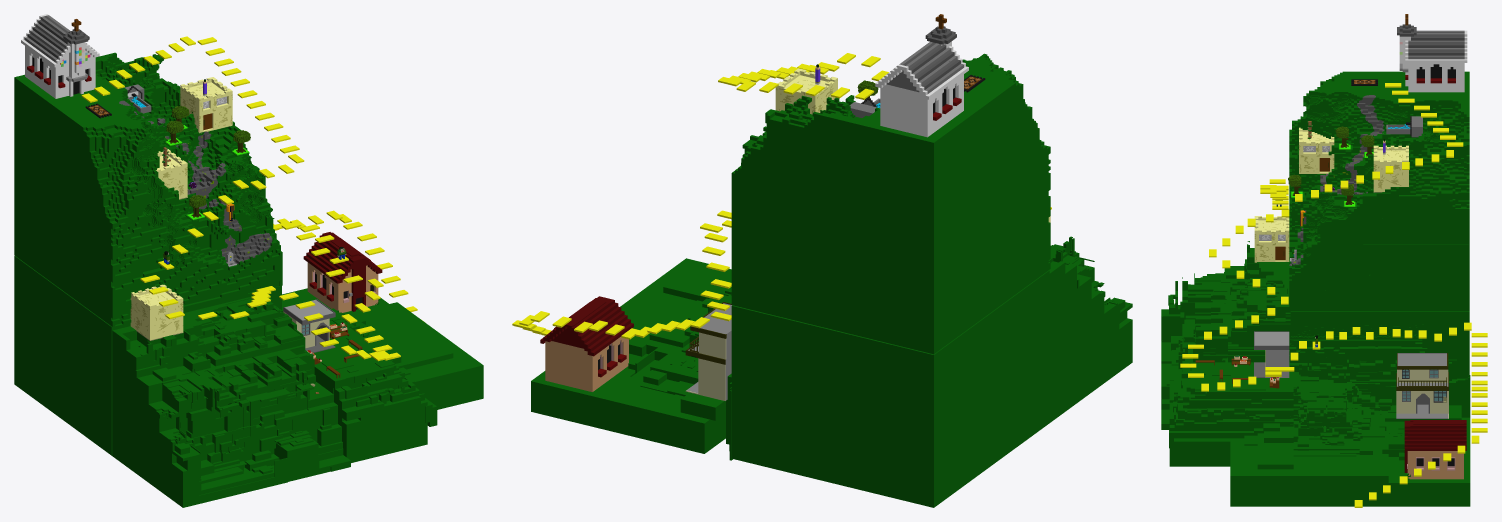
Rendered from grup4.fbx.
3 views of the same model, side by side, from view 1: azimuth 30°, elevation 25°; view 2: azimuth 150°, elevation 25°; view 3: azimuth 270°, elevation 25° (orthographic). The views are drawn at different scales.
Parts seen in each view (by area): view 1: Untitled.031, Untitled.003, Untitled.017, zemin, Untitled.022, okul, Untitled.020, ev 3, Untitled.034, Untitled.018, Untitled.030; view 2: Untitled.031, zemin, Untitled.020, Untitled.003, Untitled.022, okul, Untitled.019, Untitled.017, Untitled.034; view 3: Untitled.031, Untitled.020, Untitled.017, Untitled.003, zemin, Untitled.022, Untitled.019, okul, ev 3, Untitled.030, Untitled.034, Untitled.018 (+1 smaller).
Part boxes in pixels (x1,y1,x2,y2): Untitled.031: [14, 52, 282, 326]; Untitled.003: [112, 297, 350, 507]; Untitled.017: [314, 325, 483, 462]; zemin: [14, 256, 281, 455]; Untitled.022: [21, 14, 99, 98]; okul: [303, 232, 382, 312]; Untitled.020: [282, 288, 448, 348]; ev 3: [130, 284, 183, 340]; Untitled.034: [180, 77, 232, 133]; Untitled.018: [283, 299, 335, 352]; Untitled.030: [156, 149, 187, 199]; Untitled.031: [731, 53, 1050, 354]; zemin: [731, 270, 1049, 507]; Untitled.020: [531, 287, 732, 460]; Untitled.003: [1048, 236, 1132, 422]; Untitled.022: [875, 14, 968, 137]; okul: [540, 296, 633, 391]; Untitled.019: [685, 302, 732, 400]; Untitled.017: [646, 258, 731, 301]; Untitled.034: [775, 68, 837, 114]; Untitled.031: [1289, 71, 1469, 310]; Untitled.020: [1290, 324, 1470, 506]; Untitled.017: [1169, 362, 1293, 506]; Untitled.003: [1161, 241, 1290, 429]; zemin: [1290, 311, 1469, 378]; Untitled.022: [1397, 14, 1467, 92]; Untitled.019: [1396, 353, 1448, 418]; okul: [1404, 420, 1466, 479]; ev 3: [1254, 216, 1289, 262]; Untitled.030: [1299, 127, 1334, 173]; Untitled.034: [1373, 145, 1408, 192]; Untitled.018: [1254, 331, 1289, 377].
Size of the model in its own units: 5360 by 5530 by 4640.
Materials: 134 (134 with a texture image).
